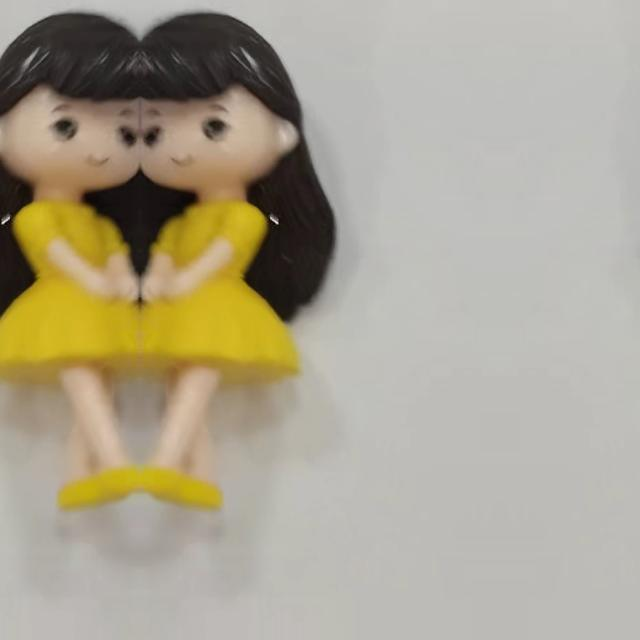woman dress: (140, 205, 280, 508), (0, 205, 140, 508)
woman head: (140, 34, 306, 184), (0, 33, 140, 184)
